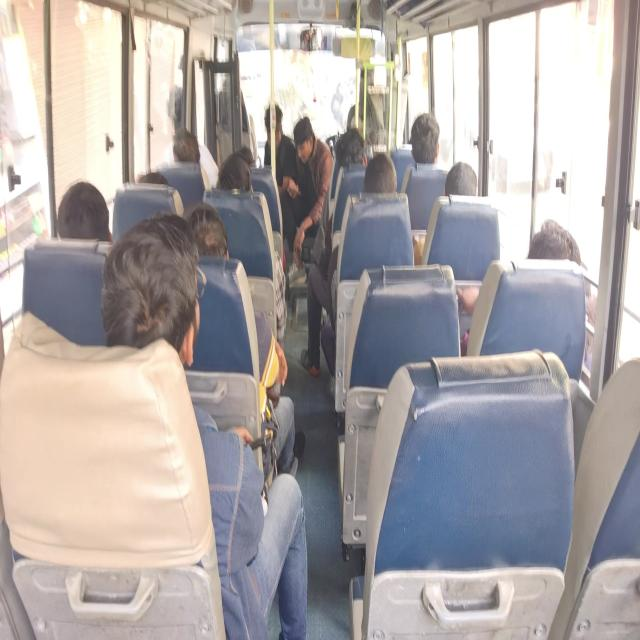person: (100, 213, 308, 638), (183, 202, 304, 477), (301, 151, 407, 377), (457, 218, 598, 372), (216, 152, 288, 350), (526, 218, 598, 370), (284, 116, 334, 280), (162, 84, 219, 189), (400, 112, 448, 230), (263, 101, 300, 243), (56, 180, 113, 242), (528, 218, 582, 266), (410, 112, 440, 164), (216, 152, 253, 192), (363, 152, 397, 193), (444, 161, 478, 196)
